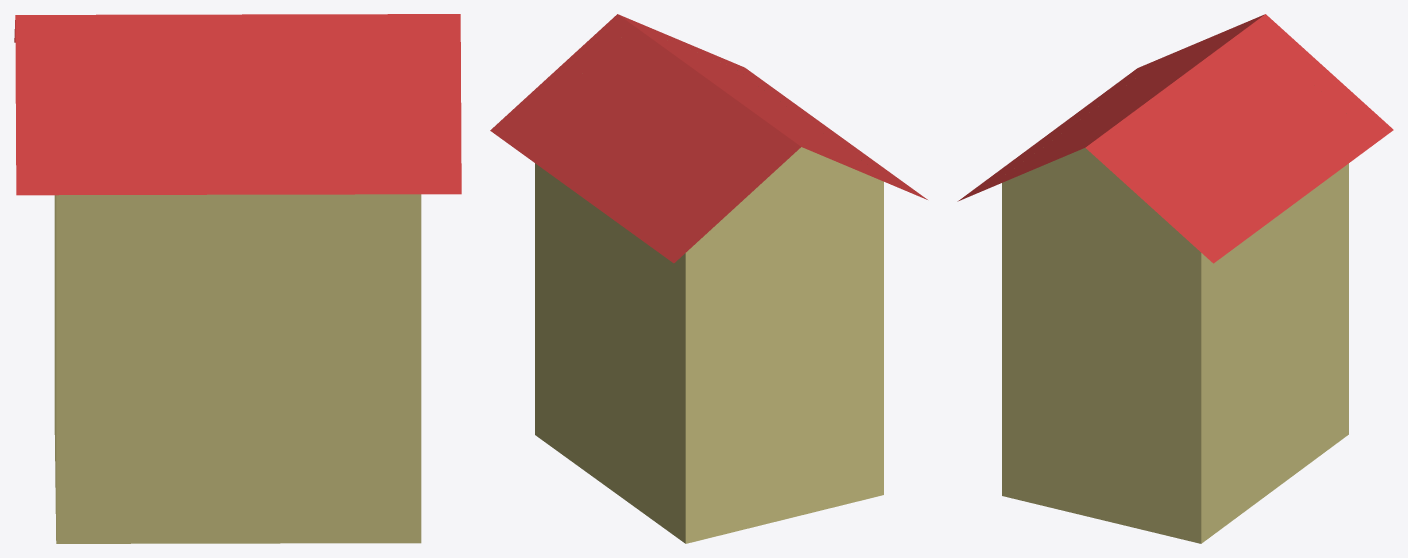
3 renders of one model, left to right at view 1: azimuth 30°, elevation 25°; view 2: azimuth 150°, elevation 25°; view 3: azimuth 270°, elevation 25°, orthographic. The views are drawn at different scales.
Visible parts, largest first — view 1: group_5, group_3, group_4; view 2: group_5, group_3, group_4; view 3: group_5, group_3, group_4.
Boxes of the visible parts, bbox=[...] form: group_5: bbox=[54, 194, 421, 543]; group_3: bbox=[14, 14, 461, 195]; group_4: bbox=[15, 14, 461, 195]; group_5: bbox=[535, 147, 883, 543]; group_3: bbox=[535, 15, 882, 258]; group_4: bbox=[490, 14, 927, 263]; group_5: bbox=[1002, 148, 1348, 543]; group_3: bbox=[1002, 14, 1348, 261]; group_4: bbox=[957, 14, 1393, 263].
Size of the model in its own units: 14.09 by 13.3 by 12.91.
